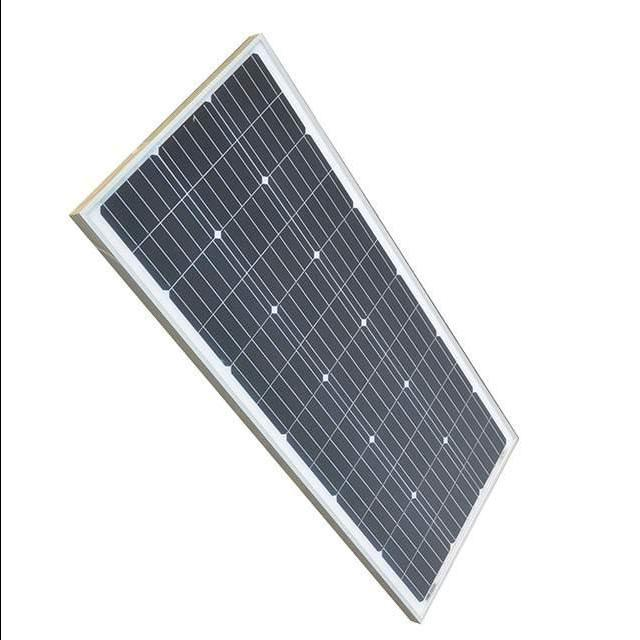no faulty: (90, 40, 518, 613)
